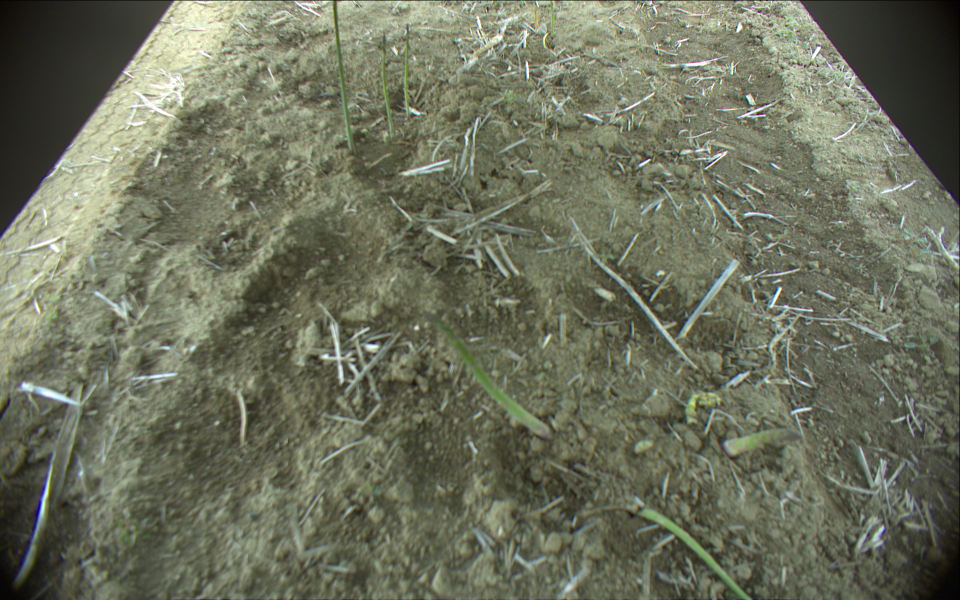aspa: (418, 309, 550, 437), (627, 493, 756, 600), (332, 1, 358, 150), (723, 426, 800, 457), (377, 29, 398, 141), (398, 19, 416, 114), (548, 1, 556, 40)
